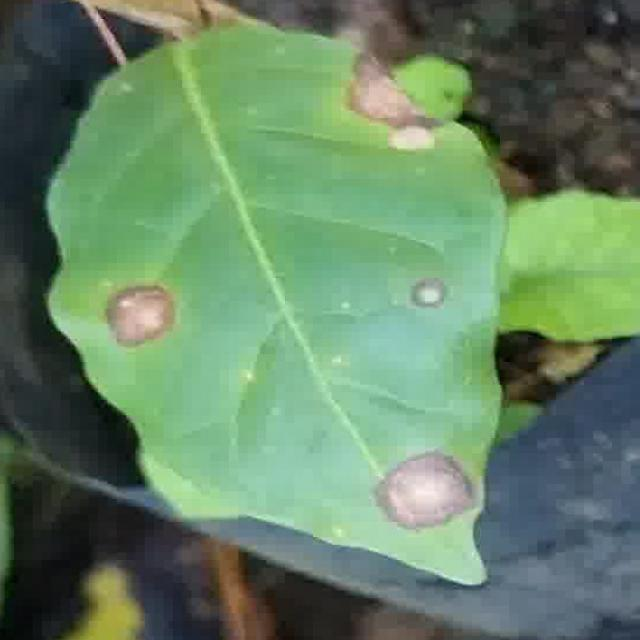leaves: (18, 8, 532, 585)
